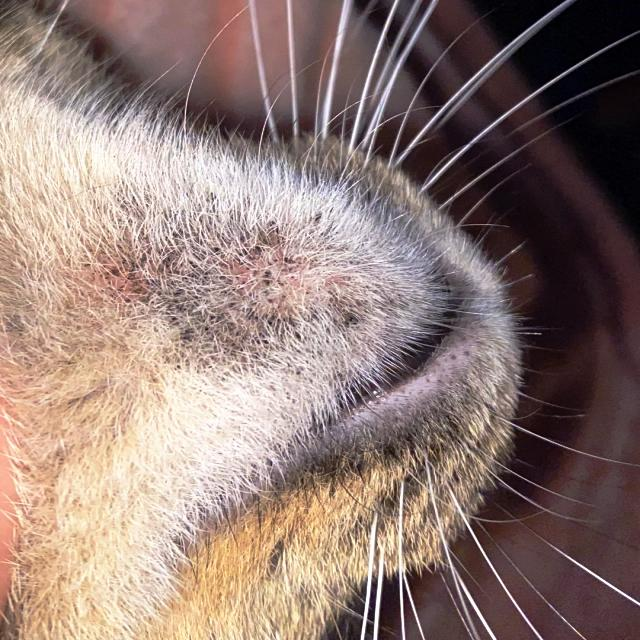acne: (90, 207, 416, 380)
